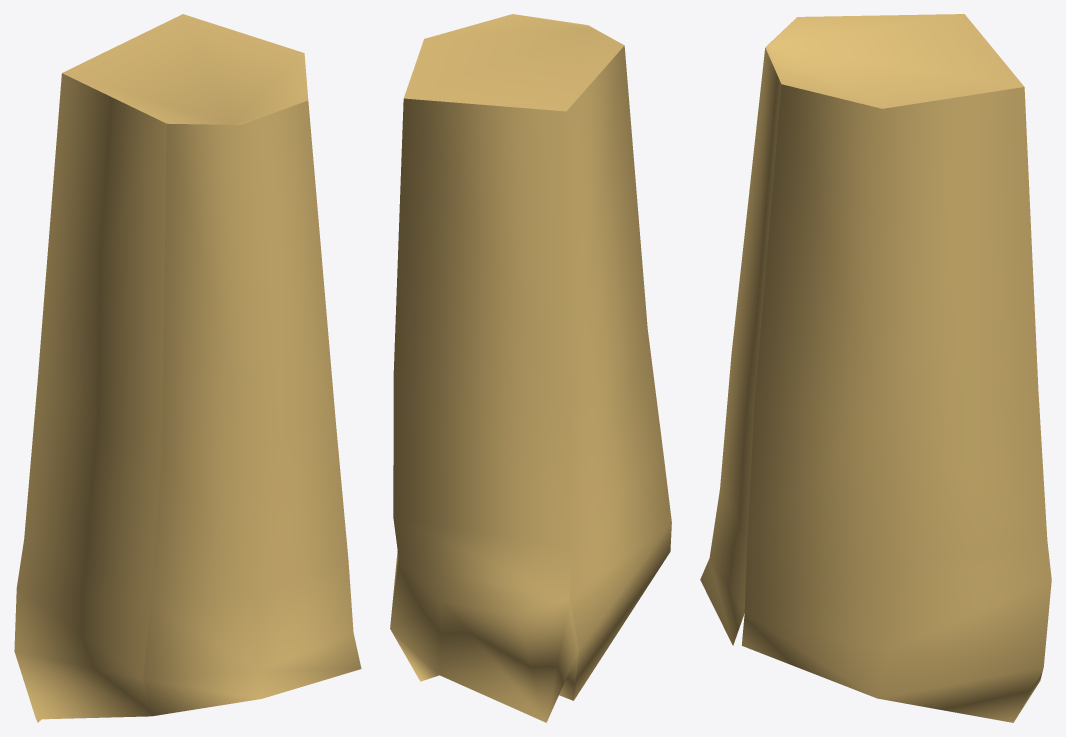
The model's file is right_forearm.glb.
3 renders of one model, left to right at view 1: azimuth 30°, elevation 25°; view 2: azimuth 150°, elevation 25°; view 3: azimuth 270°, elevation 25°, orthographic. The views are drawn at different scales.
Parts seen in each view (by area): view 1: sweater-yellow_RIGHT_FOREARM; view 2: sweater-yellow_RIGHT_FOREARM; view 3: sweater-yellow_RIGHT_FOREARM.
Boxes of the visible parts, <box> form: sweater-yellow_RIGHT_FOREARM: <box>14,14,361,722</box>; sweater-yellow_RIGHT_FOREARM: <box>390,14,671,722</box>; sweater-yellow_RIGHT_FOREARM: <box>700,14,1051,722</box>.
Bounding box in the file's own units: 0.1155 × 0.2921 × 0.1406.
Materials: 1 (1 with a texture image).
